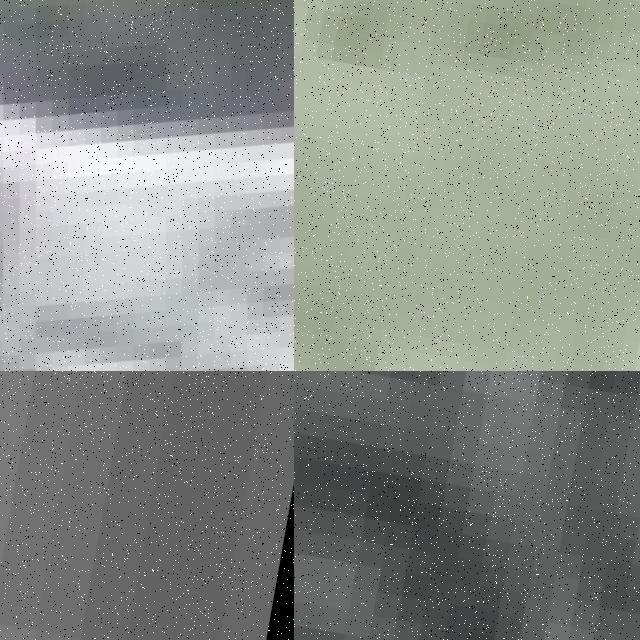drone: (0, 0, 294, 371)
